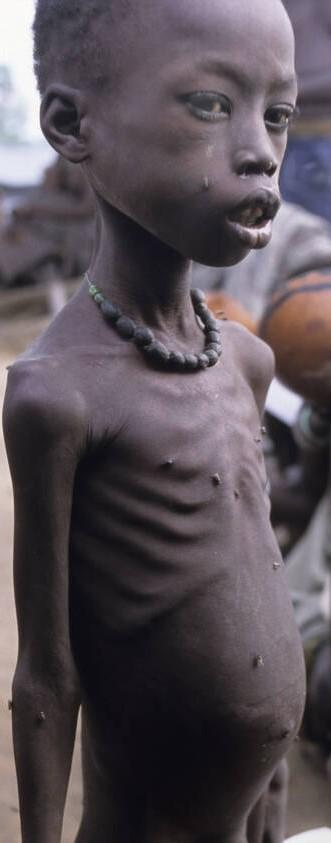Stunting: (28, 0, 326, 320)
